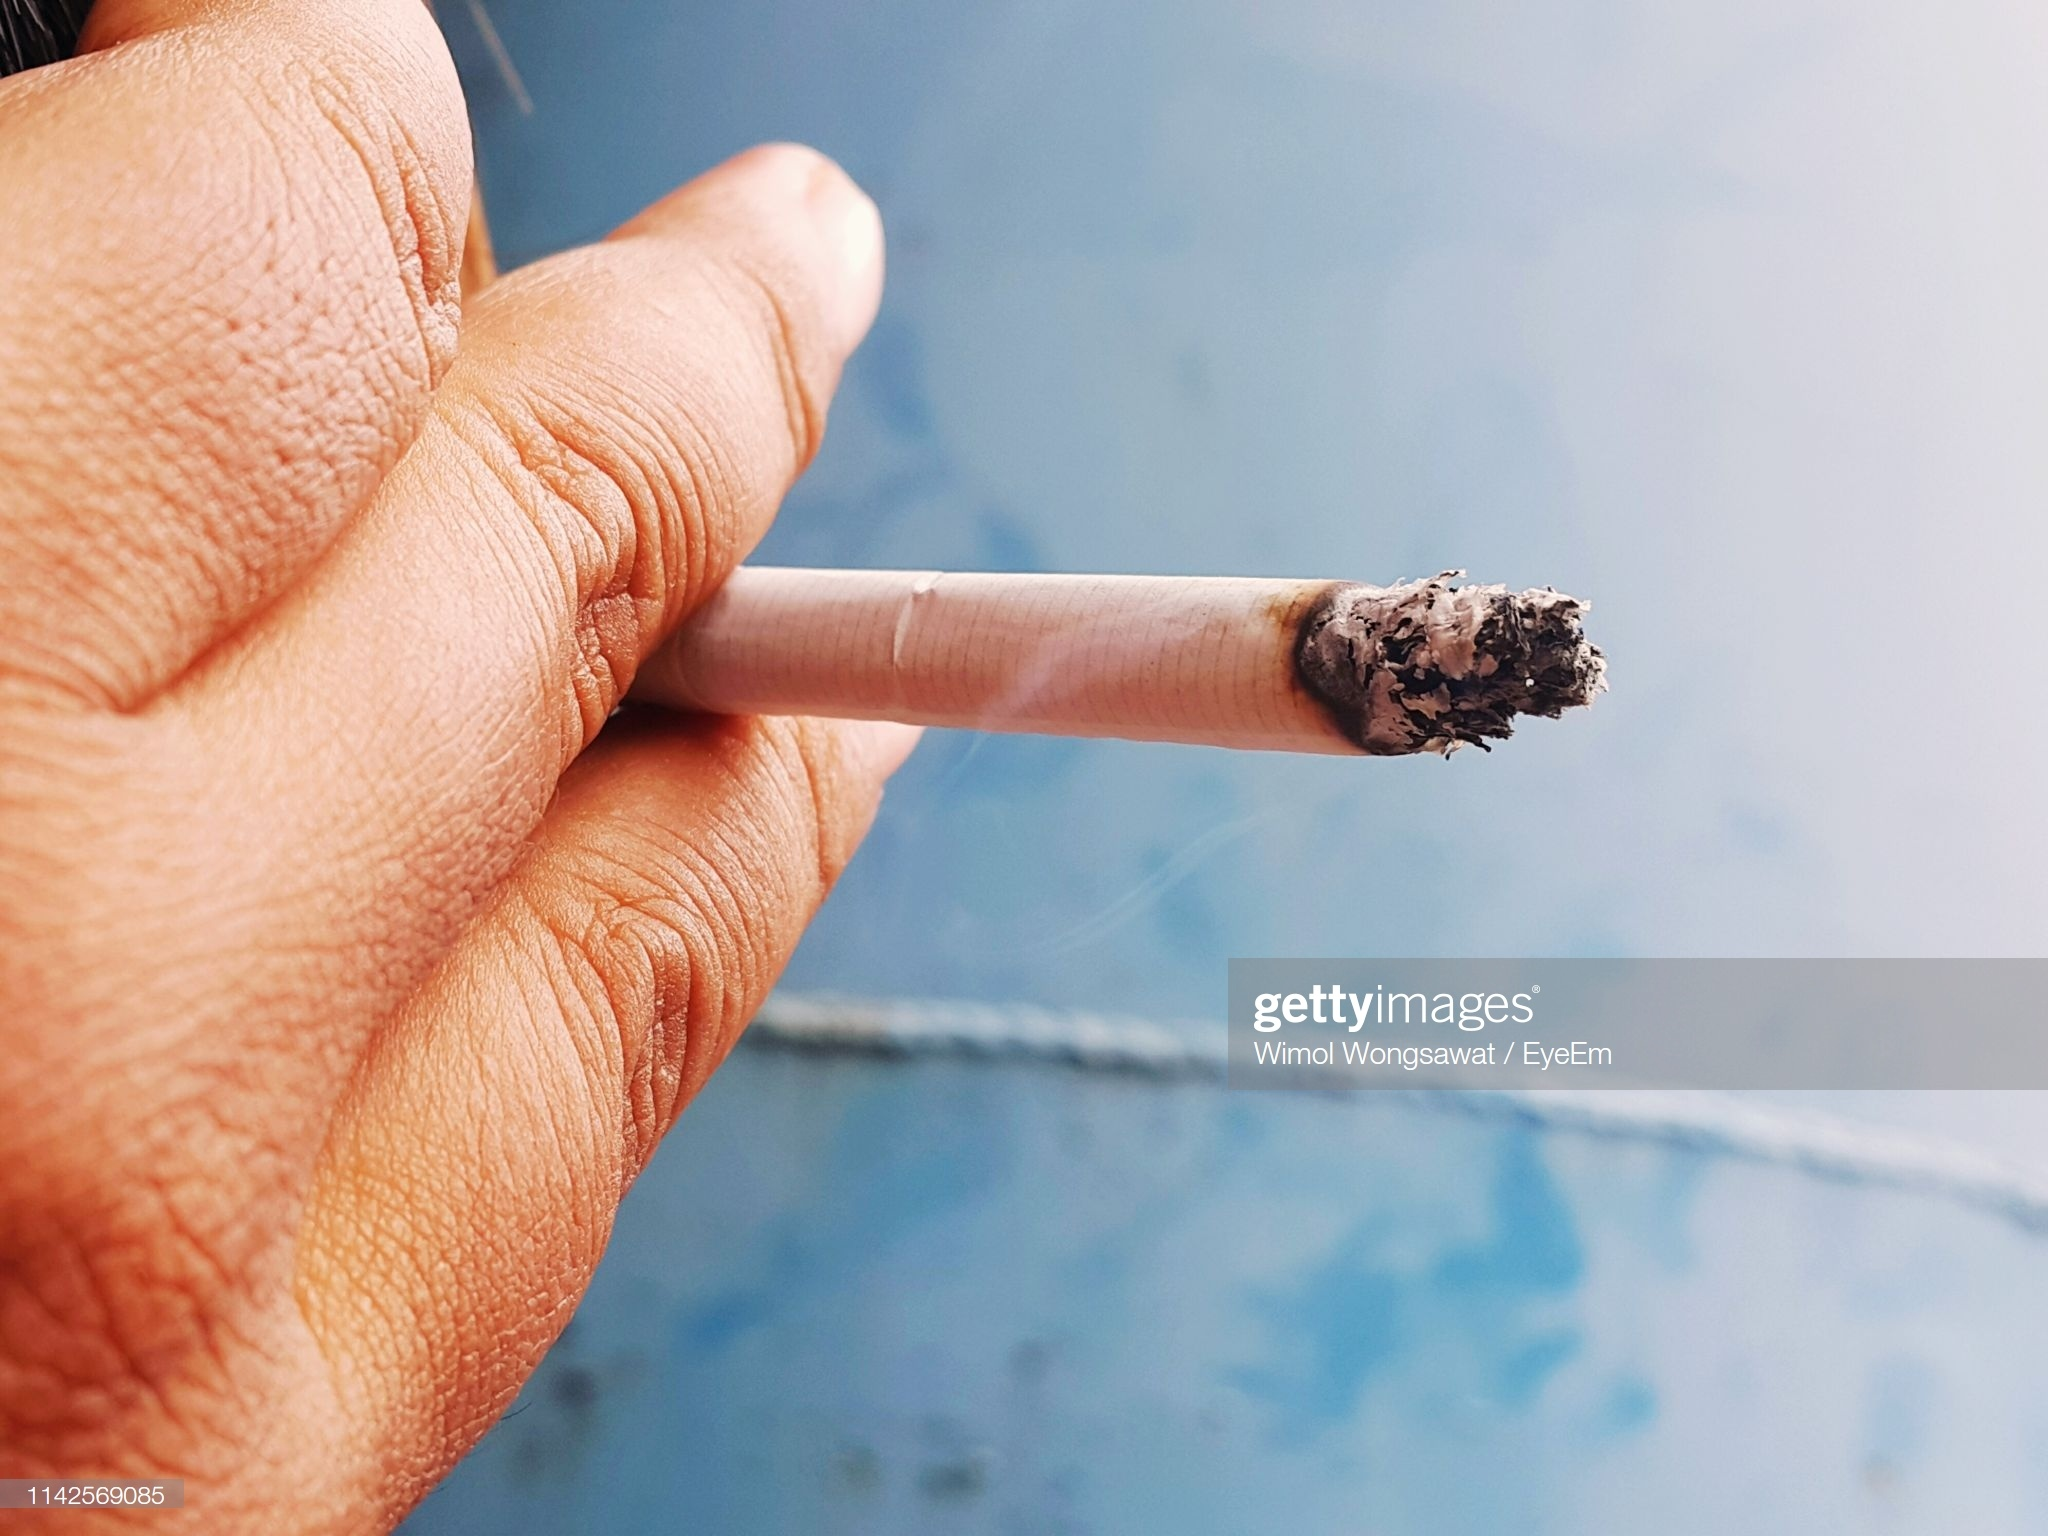sigaretta: (518, 544, 1443, 766)
